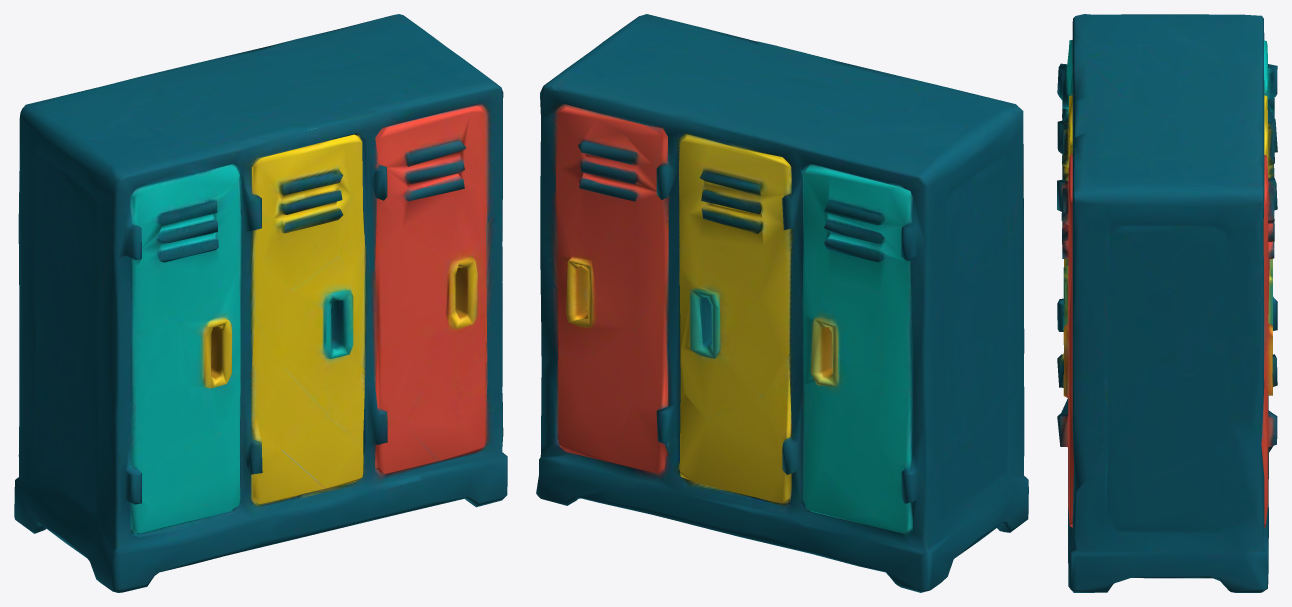
The model's file is factory-lockers.glb.
The picture shows the model from 3 angles, left to right: view 1: azimuth 30°, elevation 25°; view 2: azimuth 150°, elevation 25°; view 3: azimuth 270°, elevation 25°; orthographic projection. The views are drawn at different scales.
Parts seen in each view (by area): view 1: factory-lockers; view 2: factory-lockers; view 3: factory-lockers.
Boxes of the visible parts, x1,y1,x2,y2 form: factory-lockers: (14,14,507,592); factory-lockers: (536,14,1028,592); factory-lockers: (1057,14,1277,592).
Size of the model in its own units: 1.98 by 2 by 0.9917.
Materials: 1 (1 with a texture image).
